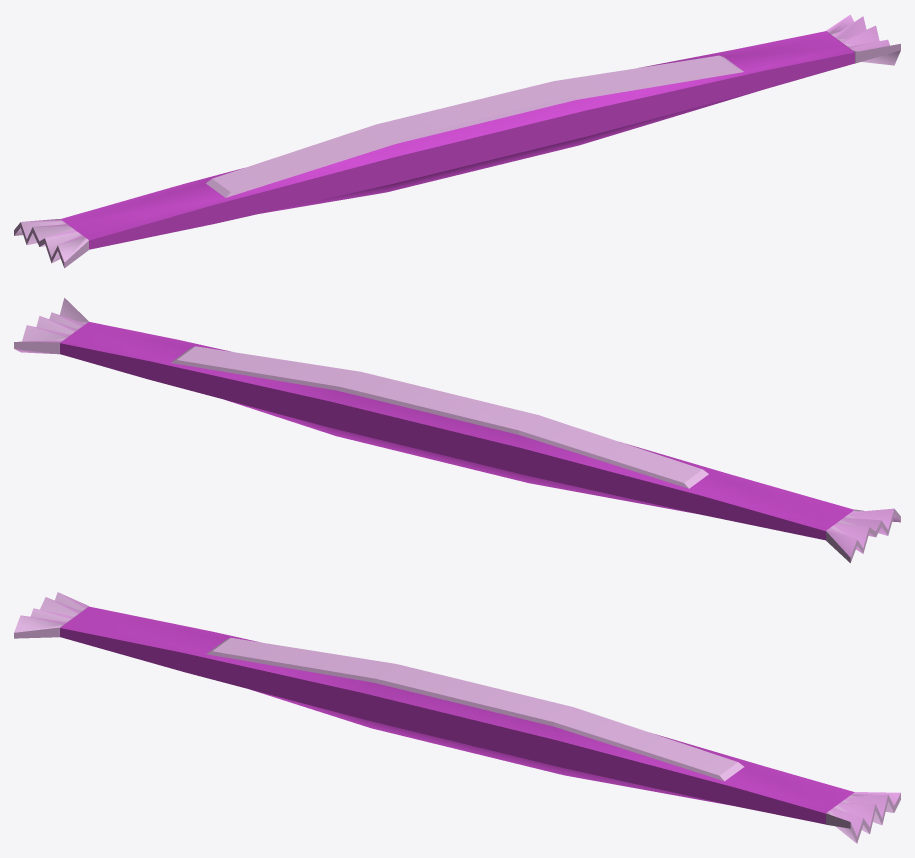
File: PixieSticks.fbx
3 renders of one model, top to bottom at view 1: azimuth 30°, elevation 25°; view 2: azimuth 150°, elevation 25°; view 3: azimuth 330°, elevation 25°, orthographic.
Visible parts, largest first — view 1: pasted__pCube1; view 2: pasted__pCube1; view 3: pasted__pCube1.
Boxes of the visible parts, x1,y1,x2,y2 form: pasted__pCube1: (14,14,900,268); pasted__pCube1: (14,298,900,562); pasted__pCube1: (14,592,900,843).
Size of the model in its own units: 24.86 by 1.52 by 2.59.
